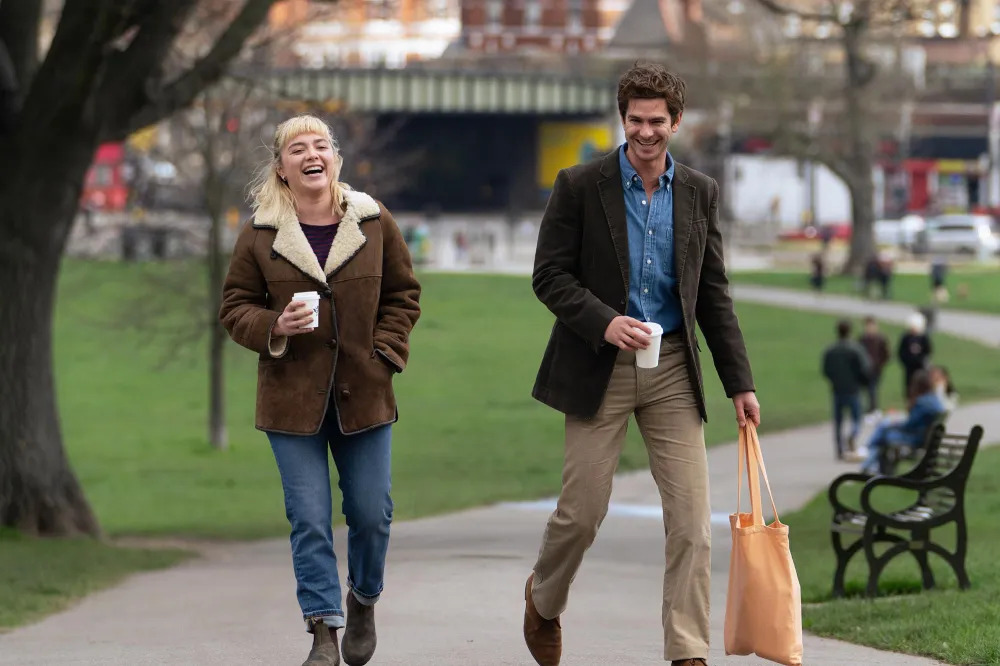person: (529, 57, 767, 666), (218, 99, 440, 666)
